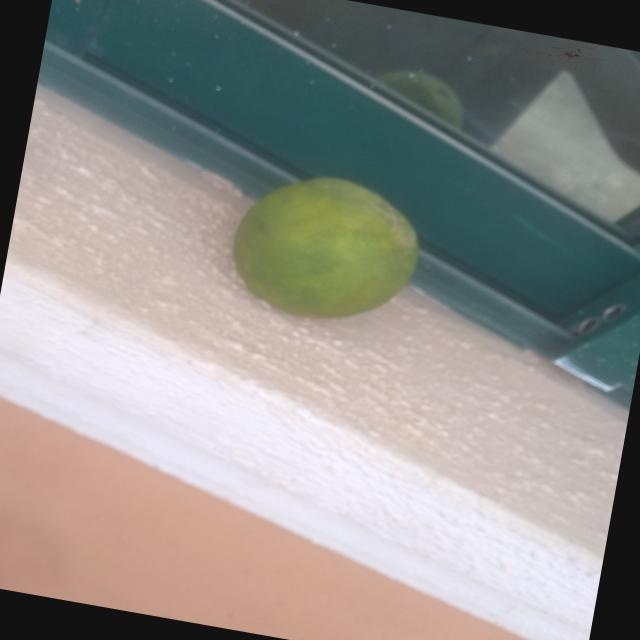agrume: (205, 148, 475, 389)
